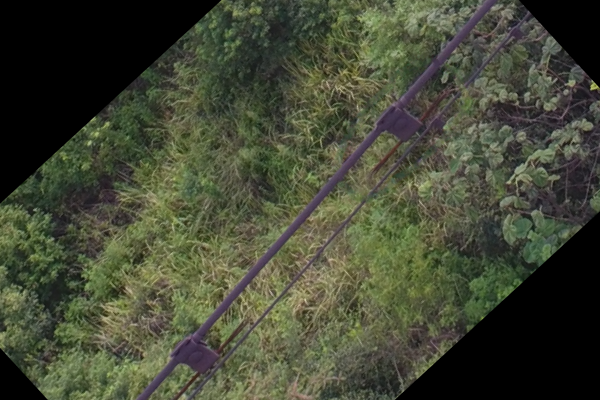damper_defect: (368, 82, 452, 178)
